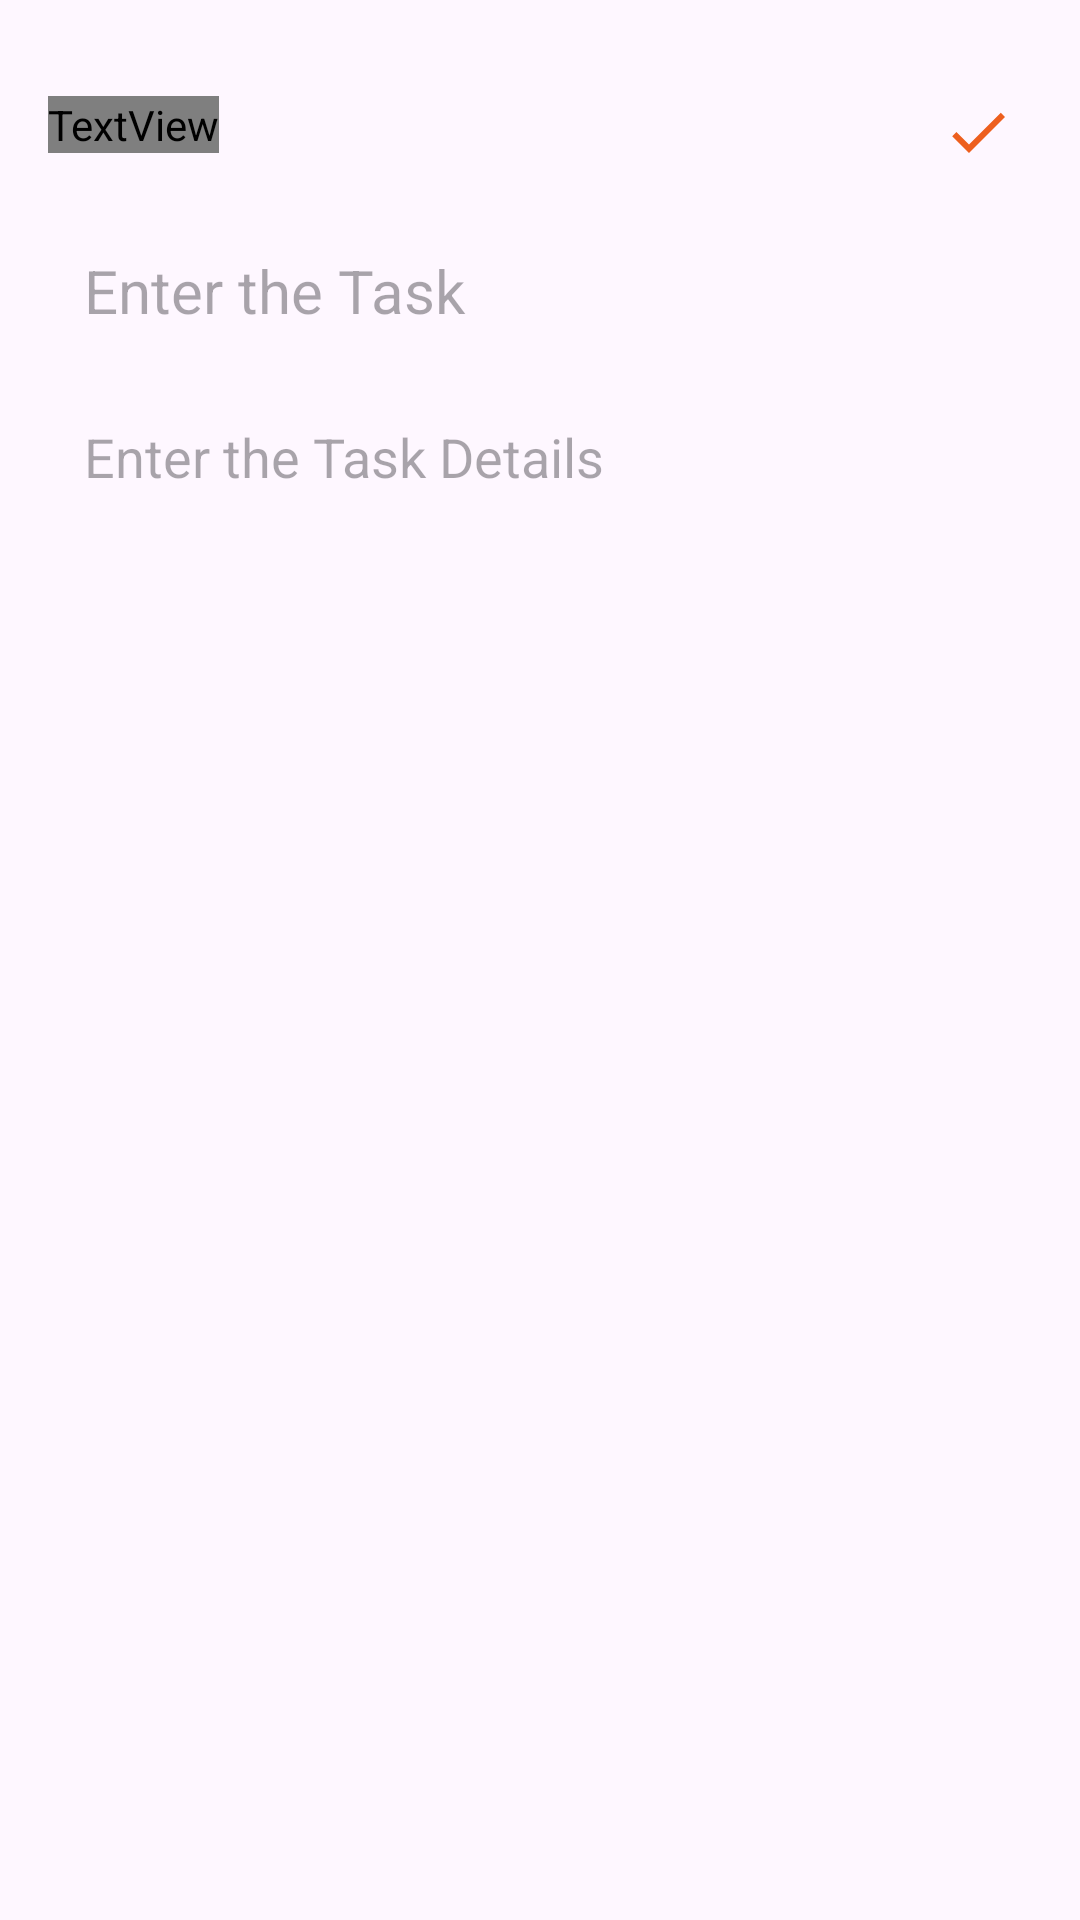

Where to tap for icons on this 1080×1920 app screen, as point (x, y):
done: point (978, 133)
